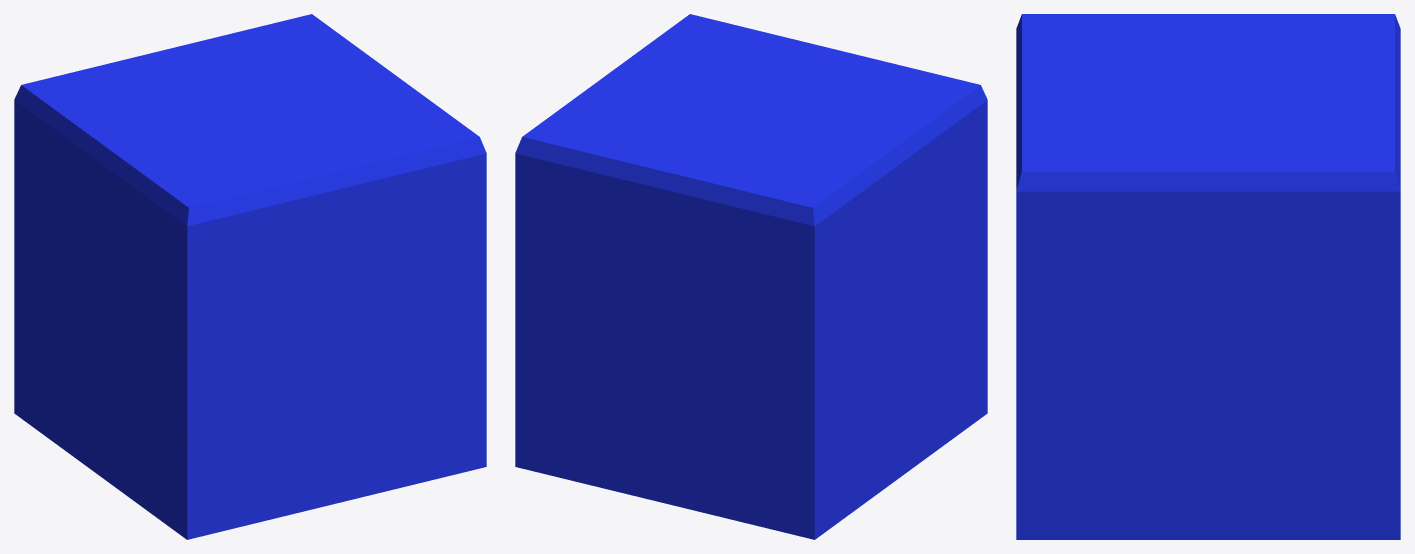
Rendered from water_tile.glb.
3 renders of one model, left to right at view 1: azimuth 30°, elevation 25°; view 2: azimuth 150°, elevation 25°; view 3: azimuth 270°, elevation 25°, orthographic. The views are drawn at different scales.
Parts seen in each view (by area): view 1: WaterTile; view 2: WaterTile; view 3: WaterTile.
Boxes of the visible parts, x1,y1,x2,y2 form: WaterTile: (14, 14, 486, 539); WaterTile: (515, 14, 987, 539); WaterTile: (1016, 14, 1400, 539).
Size of the model in its own units: 2 by 2.1 by 2.
